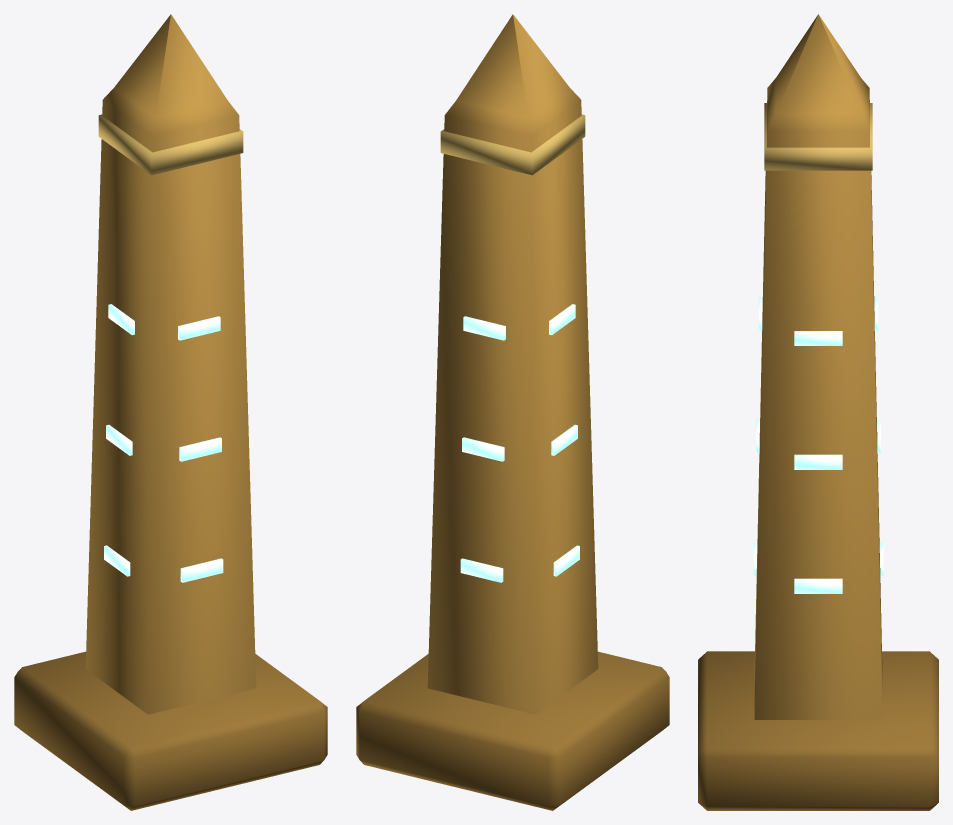
Rendered from obelisk.glb.
3 renders of one model, left to right at view 1: azimuth 30°, elevation 25°; view 2: azimuth 150°, elevation 25°; view 3: azimuth 270°, elevation 25°, orthographic. The views are drawn at different scales.
Parts seen in each view (by area): view 1: obelisk:mesh; view 2: obelisk:mesh; view 3: obelisk:mesh.
Part boxes in pixels (x1,y1,x2,y2): obelisk:mesh: (14,14,327,810); obelisk:mesh: (356,14,669,810); obelisk:mesh: (698,14,938,810).
Size of the model in its own units: 0.8 by 2.75 by 0.8.
